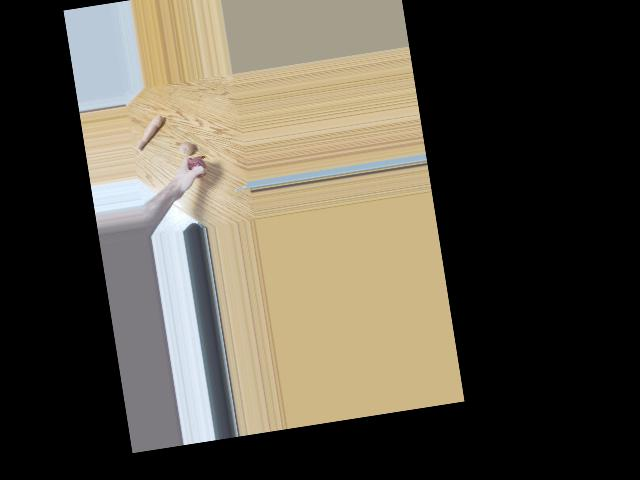onion: (173, 141, 193, 162)
